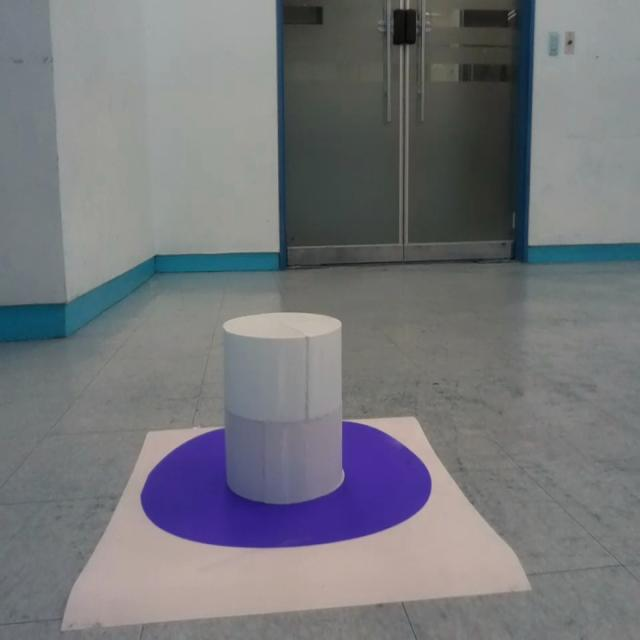cylinder: (222, 312, 344, 504)
